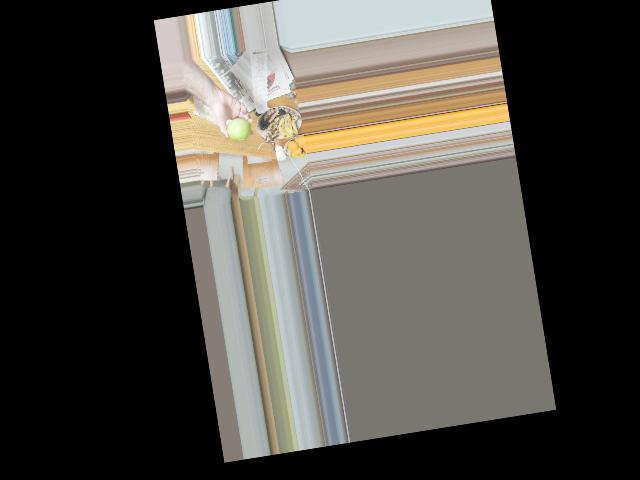apple: (222, 113, 252, 144)
